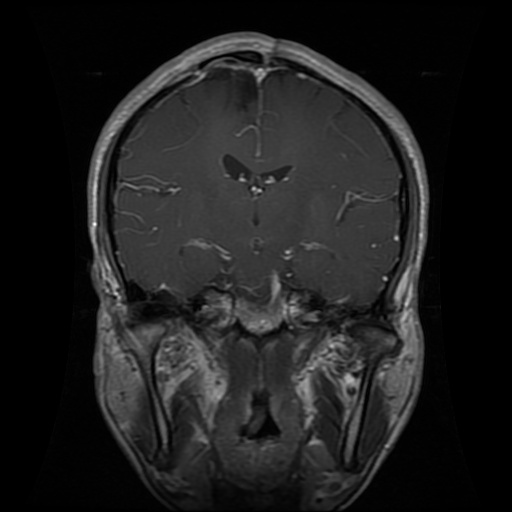glioma: (206, 69, 262, 111)
